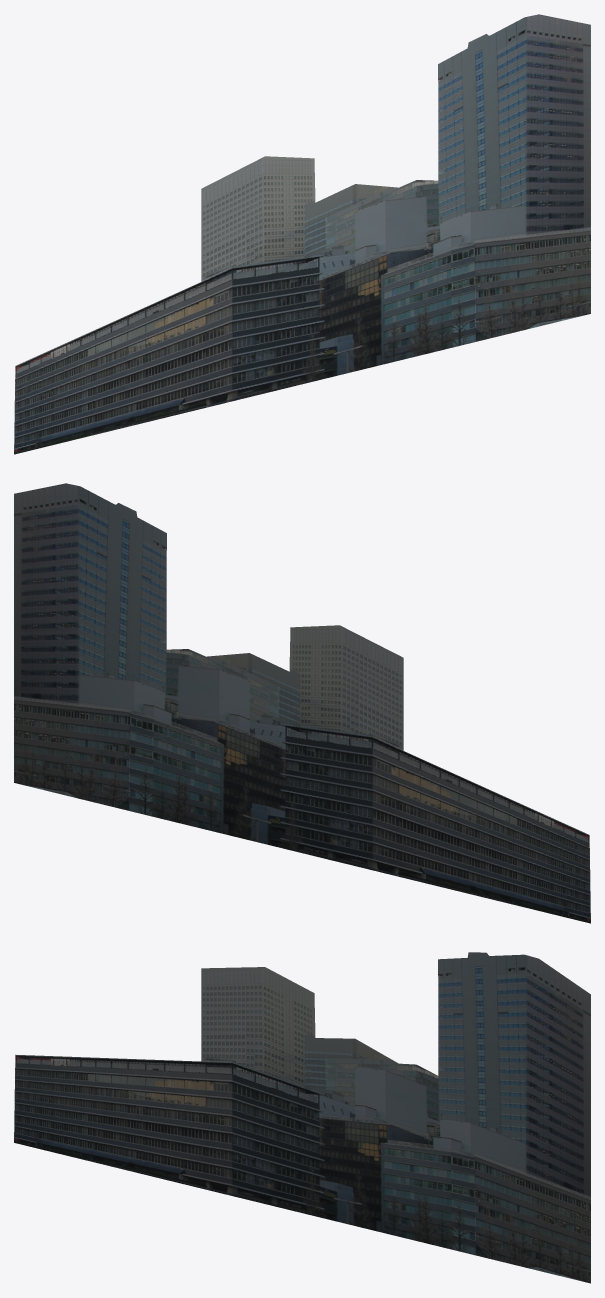
File: Buildings_A.fbx
3 views of the same model, one above another, from view 1: azimuth 30°, elevation 25°; view 2: azimuth 150°, elevation 25°; view 3: azimuth 330°, elevation 25° (orthographic).
Visible parts, largest first — view 1: Buildings_A; view 2: Buildings_A; view 3: Buildings_A.
Part boxes in pixels (left/top/right/bottom): Buildings_A: left=14, top=14, right=590, bottom=454; Buildings_A: left=14, top=483, right=590, bottom=923; Buildings_A: left=14, top=952, right=590, bottom=1283.
Size of the model in its own units: 5036 by 2609 by 0.
Materials: 1 (1 with a texture image).
